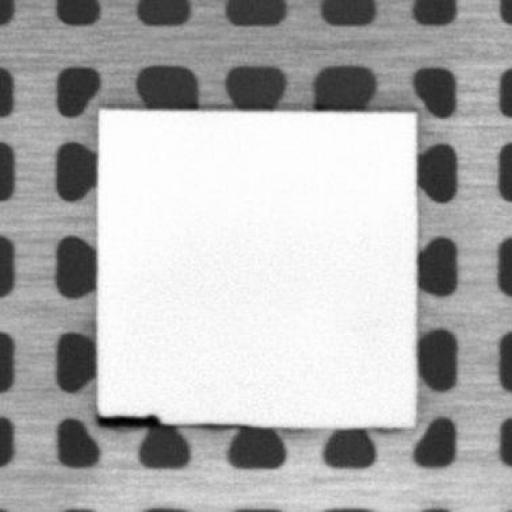DIE_BROKEN: (92, 408, 163, 428)
